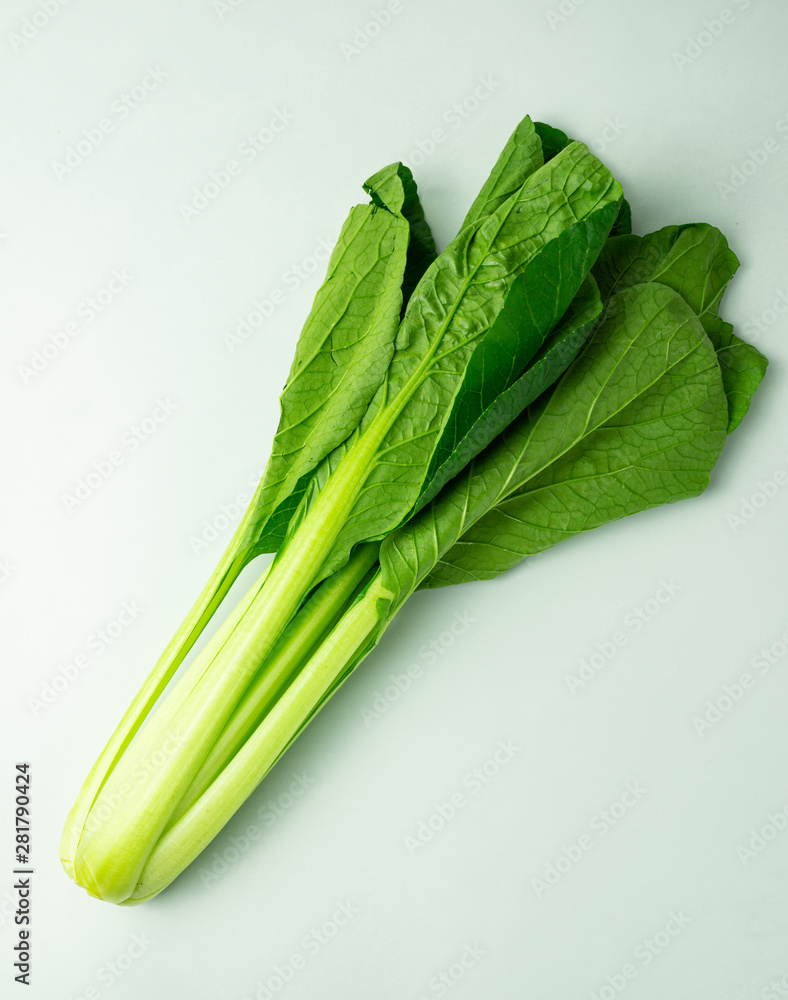Sawi: (101, 72, 764, 1000)
